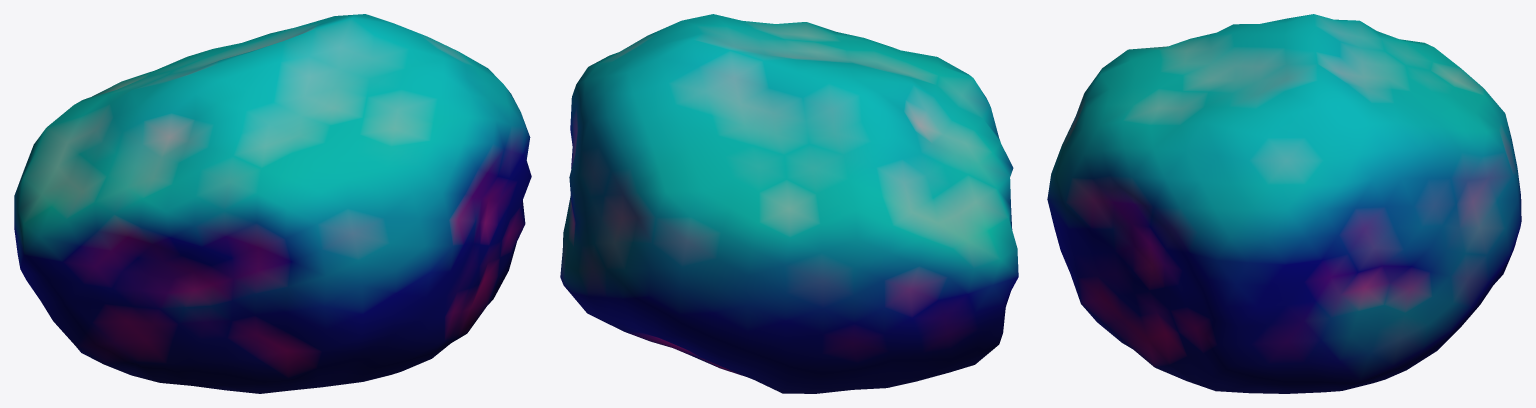
File: RockAngular_2_lod0.glb
The picture shows the model from 3 angles, left to right: view 1: azimuth 30°, elevation 25°; view 2: azimuth 150°, elevation 25°; view 3: azimuth 270°, elevation 25°; orthographic projection.
Parts seen in each view (by area): view 1: RockAngular_2_lod0; view 2: RockAngular_2_lod0; view 3: RockAngular_2_lod0.
Boxes of the visible parts, bbox=[...] form: RockAngular_2_lod0: bbox=[14, 14, 531, 393]; RockAngular_2_lod0: bbox=[560, 14, 1018, 393]; RockAngular_2_lod0: bbox=[1047, 14, 1521, 393].
Bounding box in the file's own units: 2.32 × 1.39 × 2.02.
